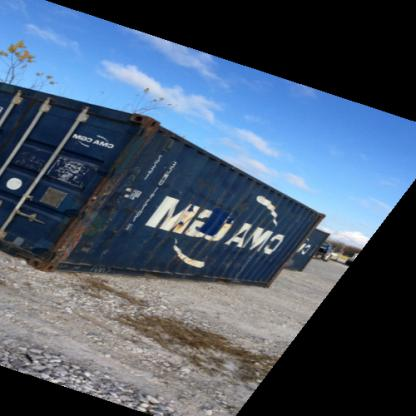Damage: (55, 201, 107, 264), (43, 157, 87, 189), (201, 190, 247, 220), (104, 156, 139, 194), (133, 114, 161, 149), (212, 254, 251, 276), (148, 232, 176, 250), (175, 211, 189, 232)
